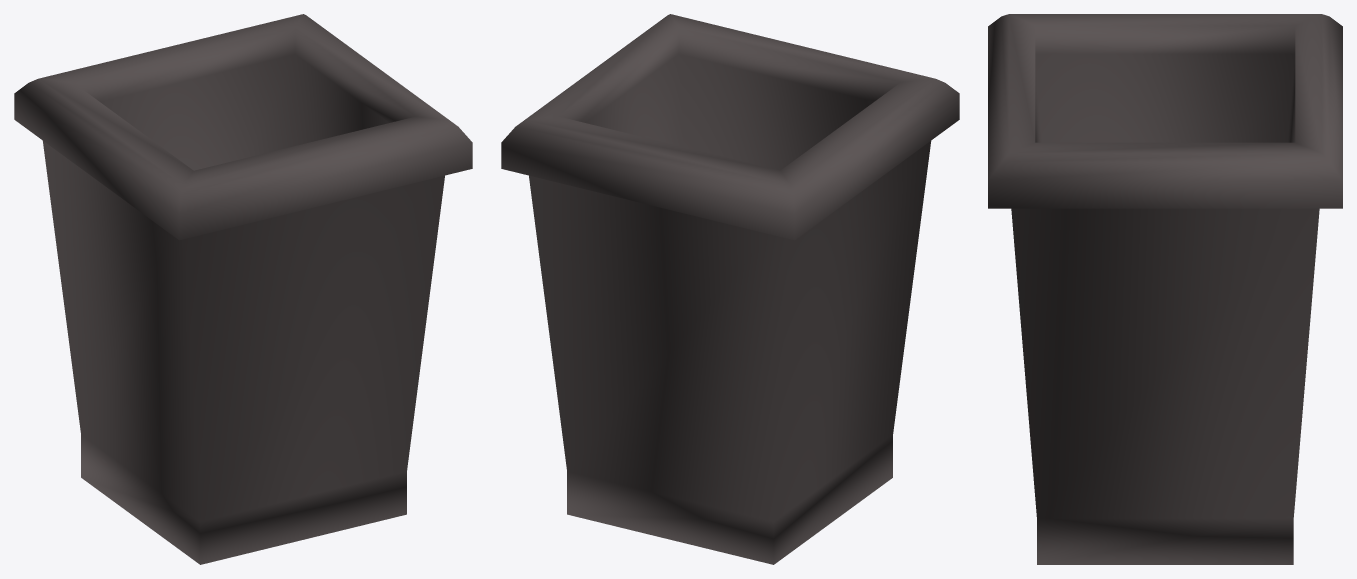
File: Trash Can.fbx
3 views of the same model, side by side, from view 1: azimuth 30°, elevation 25°; view 2: azimuth 150°, elevation 25°; view 3: azimuth 270°, elevation 25° (orthographic). The views are drawn at different scales.
Parts seen in each view (by area): view 1: Trash_Can; view 2: Trash_Can; view 3: Trash_Can.
Part boxes in pixels (bbox=[...]): Trash_Can: bbox=[14, 14, 472, 564]; Trash_Can: bbox=[501, 14, 959, 564]; Trash_Can: bbox=[988, 14, 1342, 564].
Bounding box in the file's own units: 1.42 × 1.83 × 1.38.
